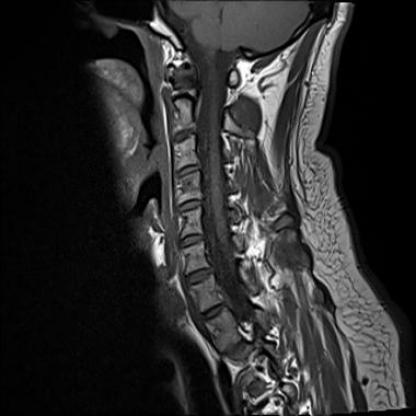Disc Bulgerotation: (178, 263, 215, 287), (171, 159, 202, 181)
